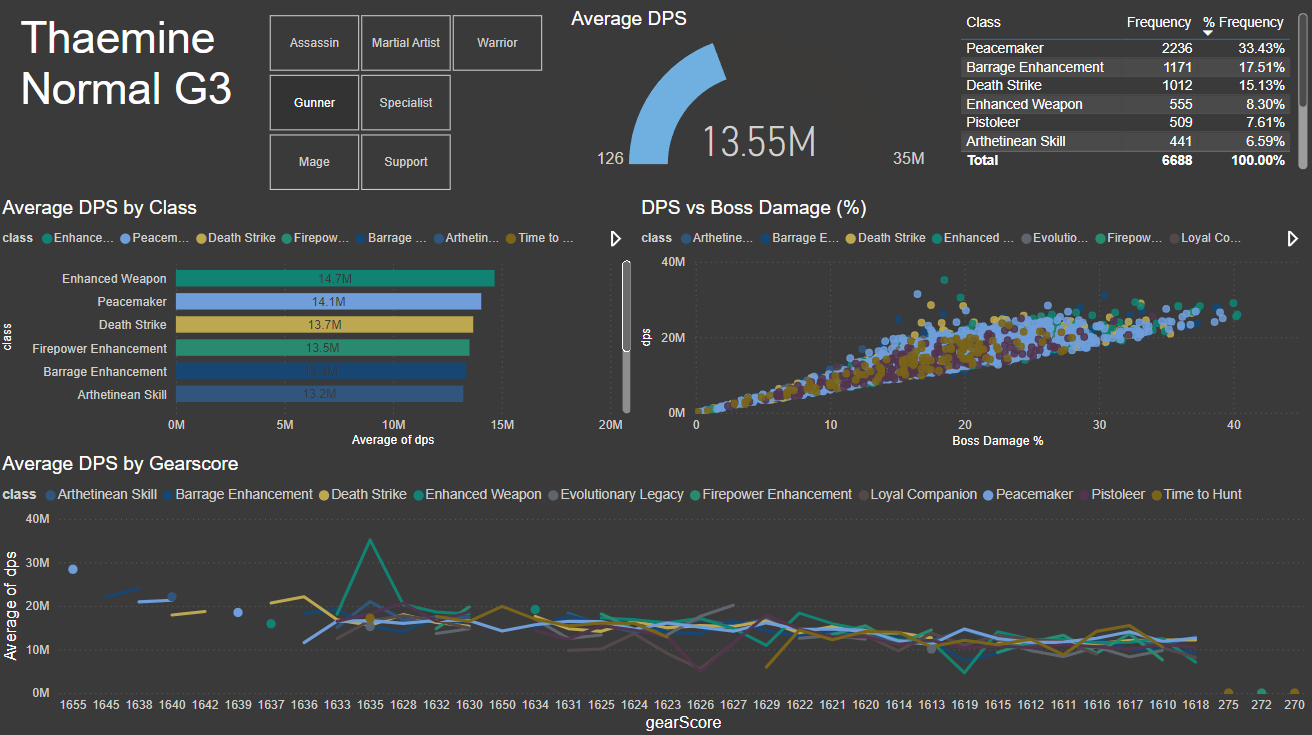

The page's visual inventory and layout, read from the dashboard file:
{"tool":"powerbi","page":{"name":"Normal Thaemine G3","canvas":[1280,720],"ordinal":1},"visuals":[{"type":"lineChart","title":"Average DPS by Gearscore","fields":{"Y":["Avg(Thaemine_G3_Normal.dps)"],"Category":["Thaemine_G3_Normal.gearScore"],"Series":["Thaemine_G3_Normal.class"]},"box":[0,443.7,1280,275.8],"z":1000},{"type":"scatterChart","title":"DPS vs Boss Damage (%)","fields":{"X":["Thaemine_G3_Normal.percent"],"Y":["Thaemine_G3_Normal.dps"],"Series":["Thaemine_G3_Normal.class"]},"box":[621.5,194.8,658.5,248.8],"z":2000},{"type":"tableEx","fields":{"Values":["Thaemine_G3_Normal.class","CountNonNull(Thaemine_G3_Normal.class)","Divide(CountNonNull(Thaemine_G3_Normal.class), ScopedEval(CountNonNull(Thaemine_G3_Normal.class), []))"]},"box":[932.3,11,347.7,161.9],"z":3000},{"type":"gauge","title":"Average DPS","fields":{"Y":["Avg(Thaemine_G3_Normal.dps)"],"MinValue":["Min(Thaemine_G3_Normal.dps)"],"TargetValue":["Sum(Thaemine_G3_Normal.dps)"],"MaxValue":["Max(Thaemine_G3_Normal.dps)"]},"box":[553.6,11,378.7,161.9],"z":4000},{"type":"textbox","box":[18,11,234.8,151.9],"z":5000},{"type":"barChart","title":"Average DPS by Class","fields":{"Y":["Avg(Thaemine_G3_Normal.dps)"],"Category":["Thaemine_G3_Normal.class"],"Series":["Thaemine_G3_Normal.class"]},"box":[0,194.8,621.5,248.4],"z":6000},{"type":"slicer","fields":{"Values":["Thaemine_G3_Normal.class_type"]},"box":[238.8,11,314.8,183.9],"z":6001}]}

Visuals, with their boxes in screenshot pixels (x1, y1, x2, y2), scaled from the page's 1280x720 canvas onto the 1312x735 screenshot:
"Average DPS by Gearscore" lineChart: bbox=[0, 453, 1311, 734]
"DPS vs Boss Damage (%)" scatterChart: bbox=[637, 199, 1311, 453]
tableEx - Thaemine_G3_Normal.class x CountNonNull(Thaemine_G3_Normal.class): bbox=[956, 11, 1311, 177]
"Average DPS" gauge: bbox=[567, 11, 956, 177]
textbox: bbox=[18, 11, 259, 166]
"Average DPS by Class" barChart: bbox=[0, 199, 637, 452]
slicer - Thaemine_G3_Normal.class_type: bbox=[245, 11, 567, 199]
